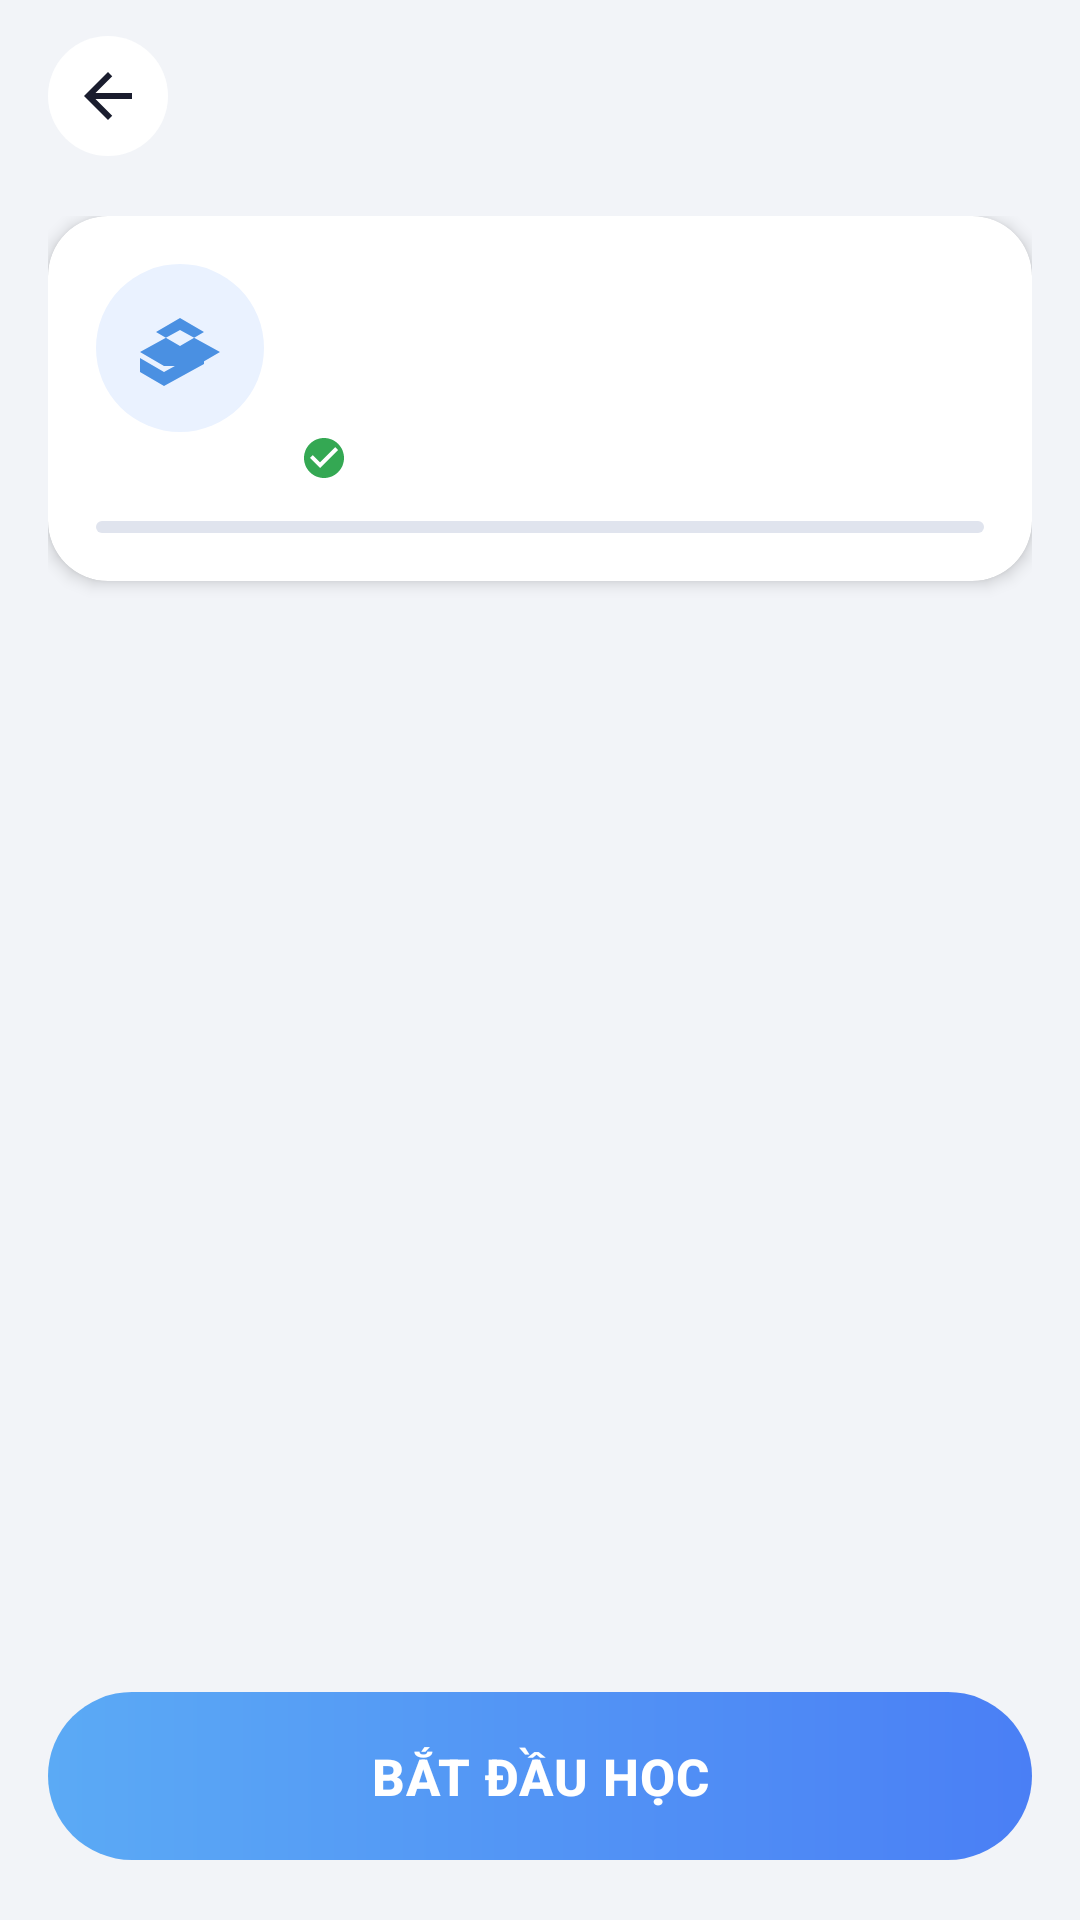

Named icons in this screenshot (1080*1920) and their centers, point (x, y):
Back: point (108, 96)
Topic icon: point (180, 352)
